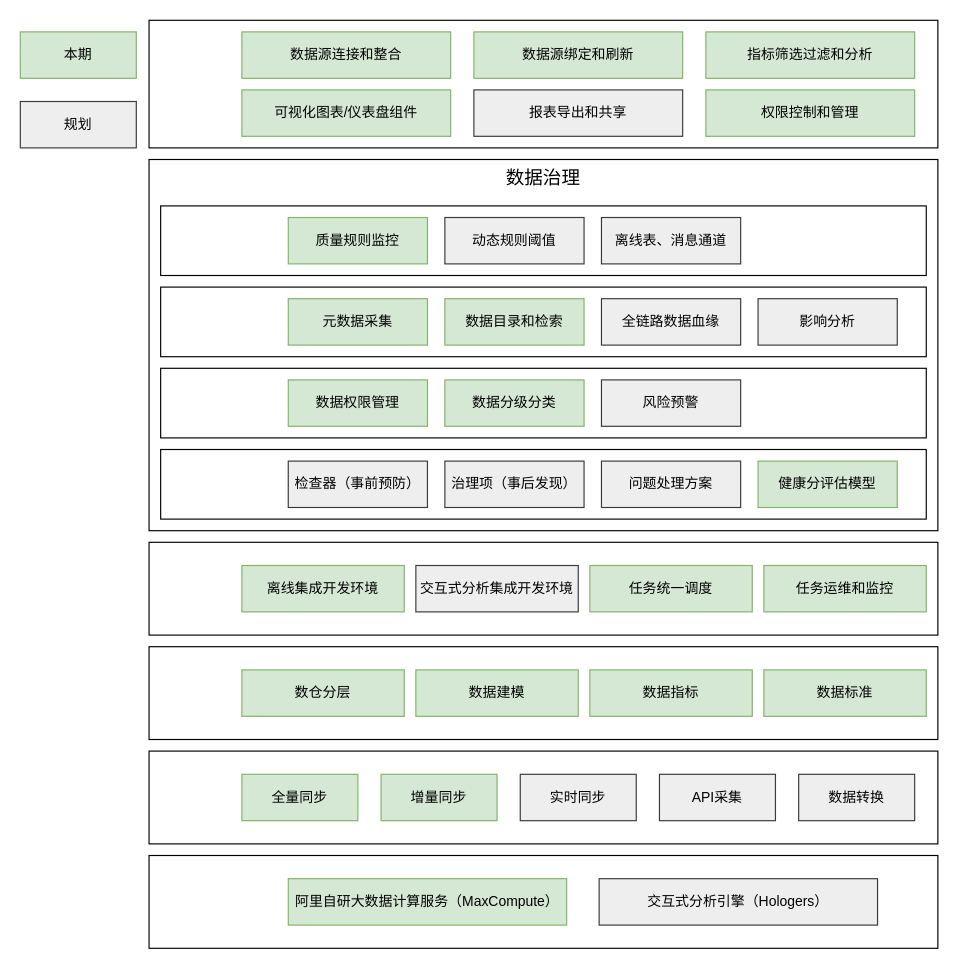
The diagram is 958 pixels wide and 969 high, and some of its shapes have lost their labels. The shapes that lost their labels are listed below. From the top down, each one's box as (x1, y1, x2, y2) in pixels, then its label:
(148, 19, 938, 148): BI工具
(160, 205, 926, 276): 数据质量
(160, 286, 926, 357): 数据资产地图
(160, 367, 926, 438): 数据安全
(160, 448, 926, 519): 数据治理中心
(148, 541, 938, 635): 数据开发
(148, 646, 938, 740): 规范设计
(148, 750, 938, 844): 数据集成
(148, 854, 938, 948): 计算存储引擎
